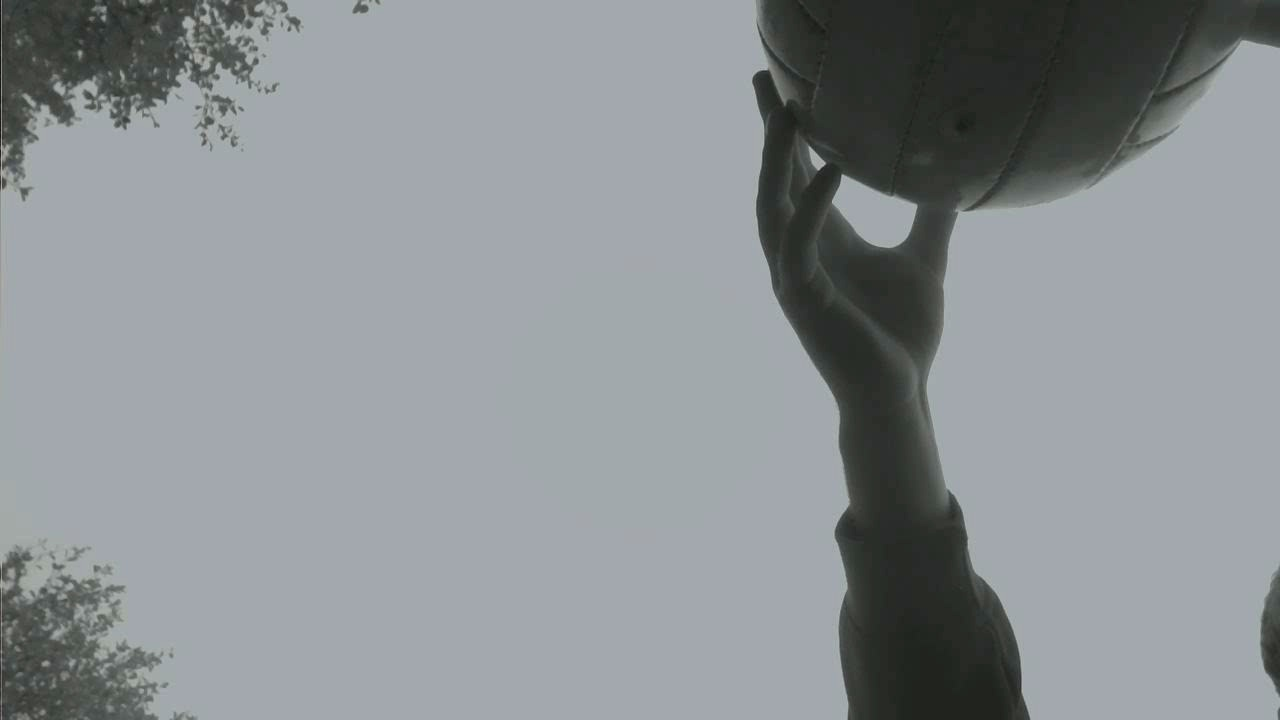Football-Spotter: (756, 0, 1266, 209)
